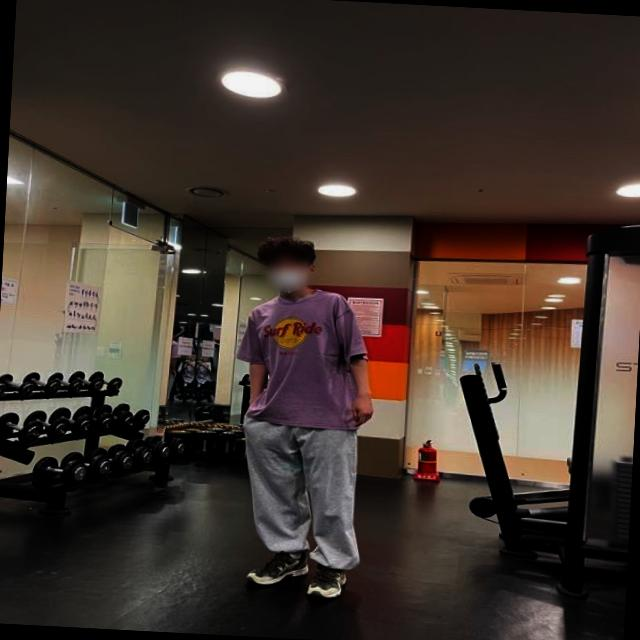shortsleeve: (230, 289, 370, 437)
trainingpants: (237, 412, 365, 566)
